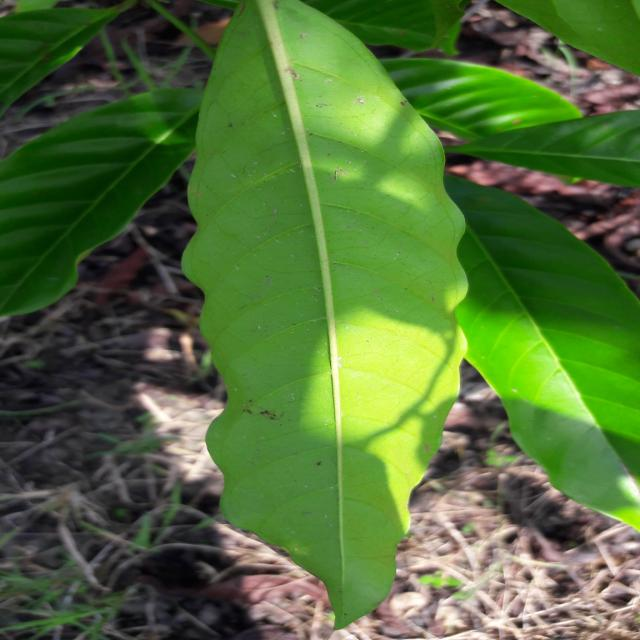Sanas: (182, 0, 472, 630)
